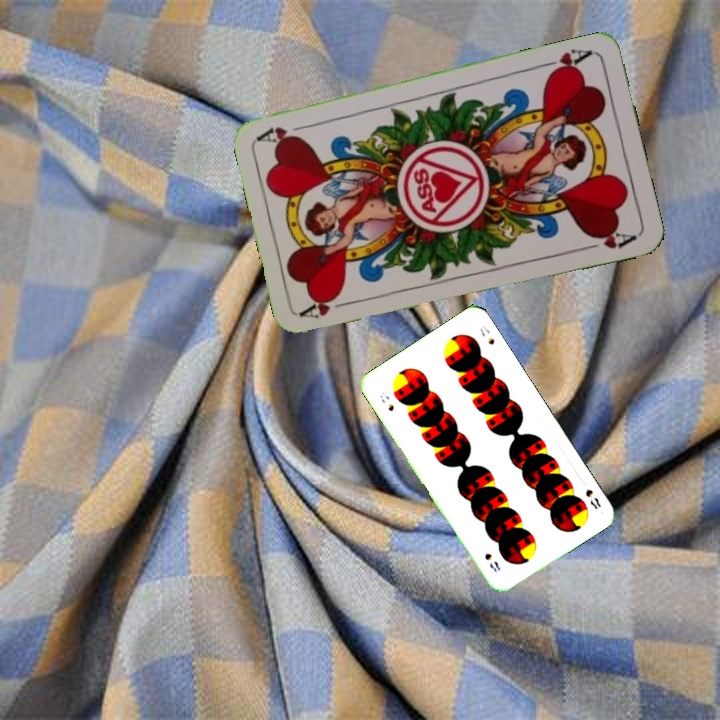HA: (537, 45, 596, 79), (298, 291, 356, 321)
S8: (581, 485, 604, 512), (376, 388, 397, 414)
